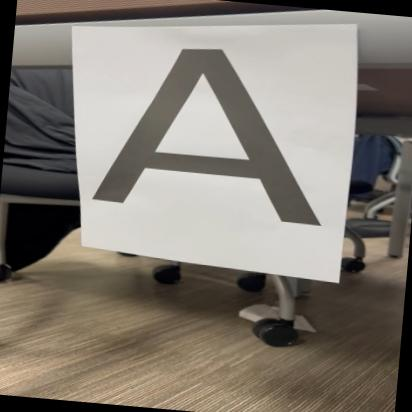seat: (76, 36, 352, 234)
